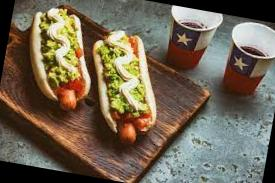Completos: (78, 23, 171, 152), (10, 2, 104, 117)
